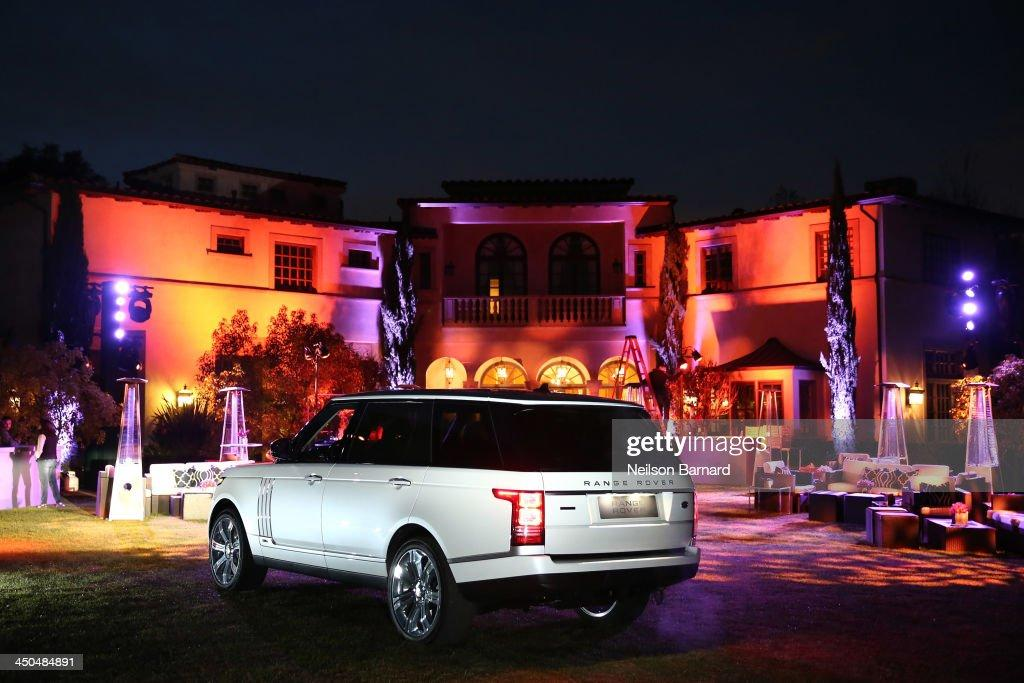range rover: (572, 474, 679, 492)
